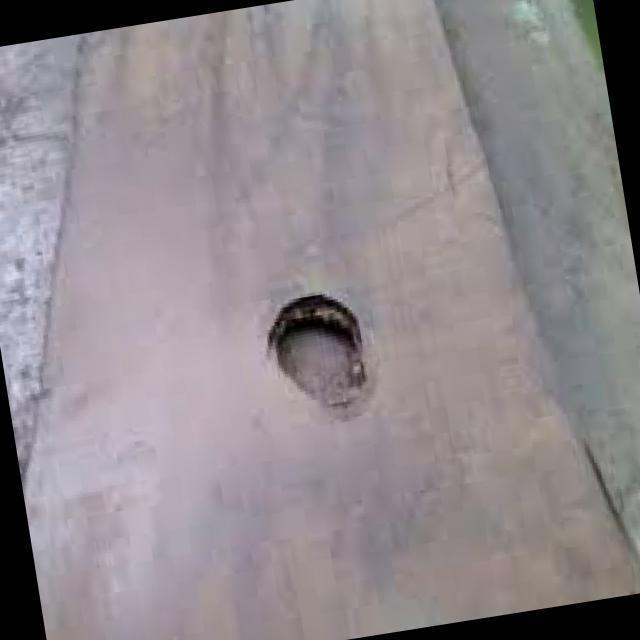Hole: (261, 283, 375, 413)
